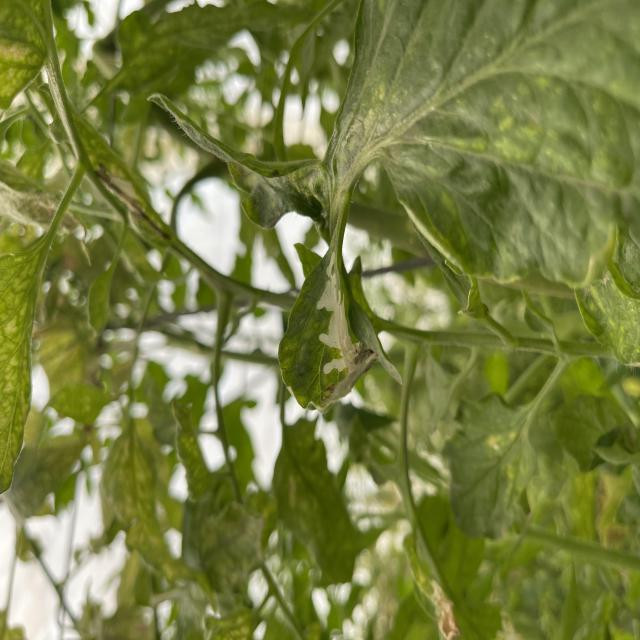Tuta absoluta: (312, 249, 364, 376)
